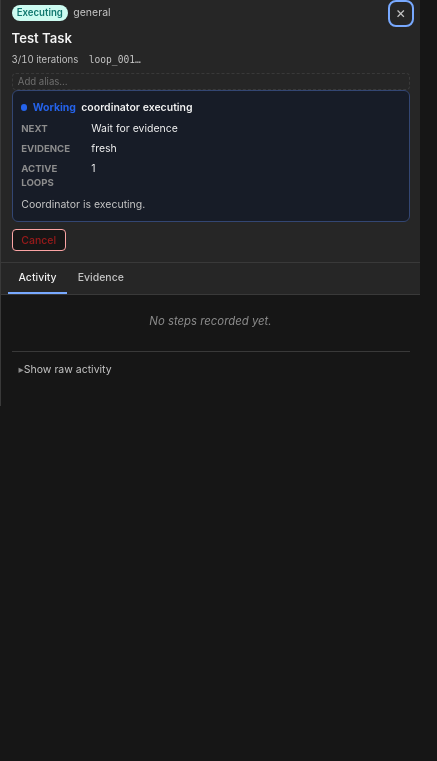
TaskDetailPanel › tabs › Evidence tab keeps raw receipts behind the summary
Click the tab with test id "tab-evidence" at [101, 278], box 67,262 -> 134,294
(page scrolled)
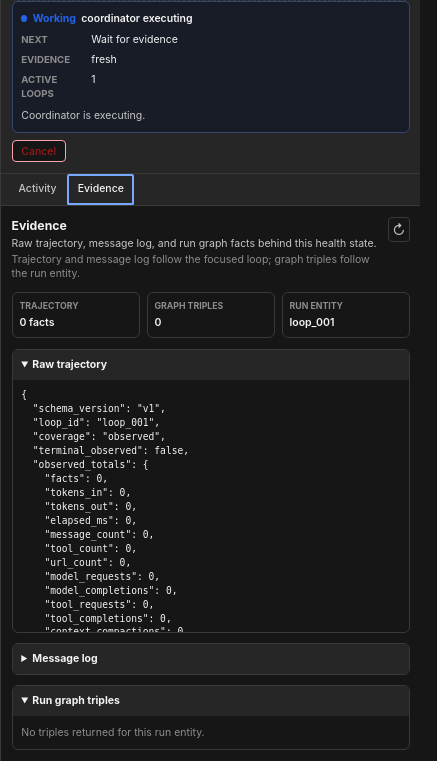
Result: the heading "Raw trajectory" is shown at 12,350 -> 408,380
Result: the heading "Message log" is shown at 12,644 -> 408,674
Result: the heading "Run graph triples" is shown at 12,686 -> 408,716
